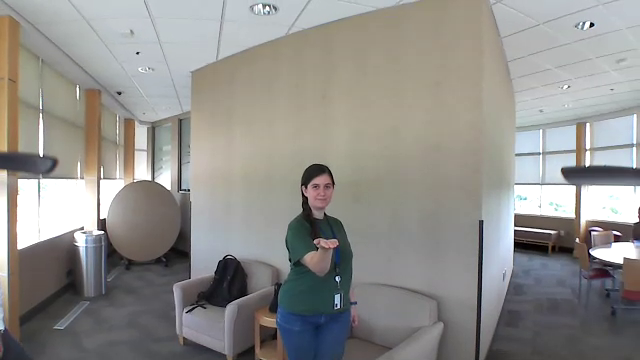land: (308, 235, 343, 253)
